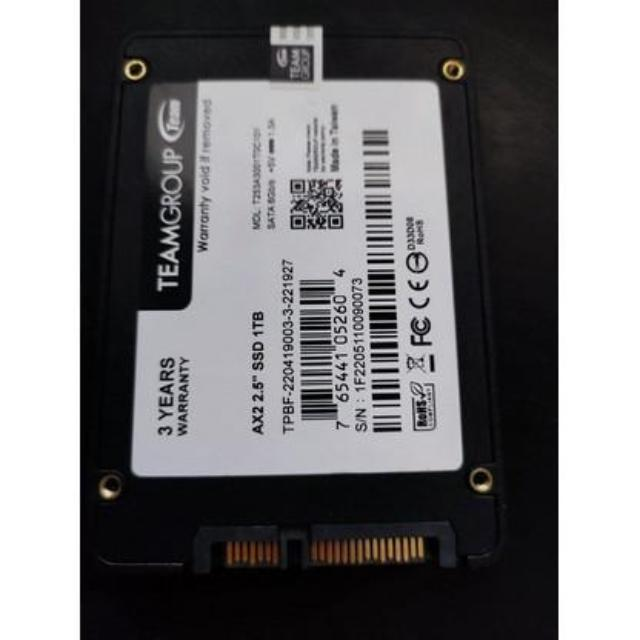DISK: (66, 40, 512, 585)
